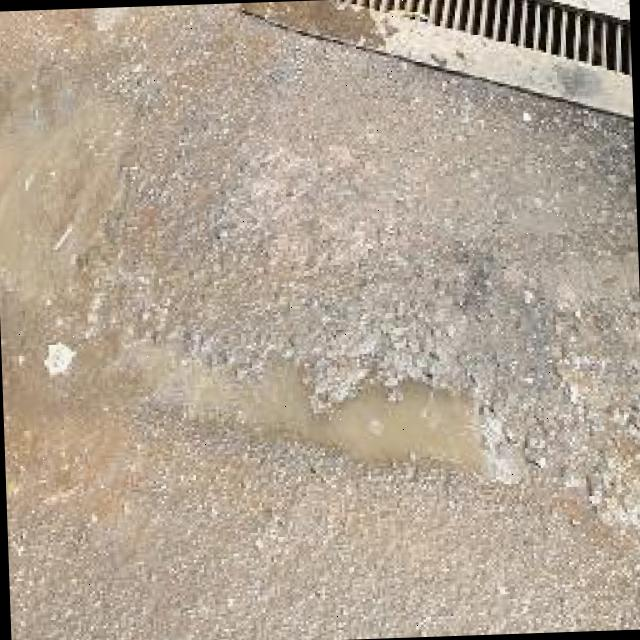stagnation: (100, 294, 536, 512)
